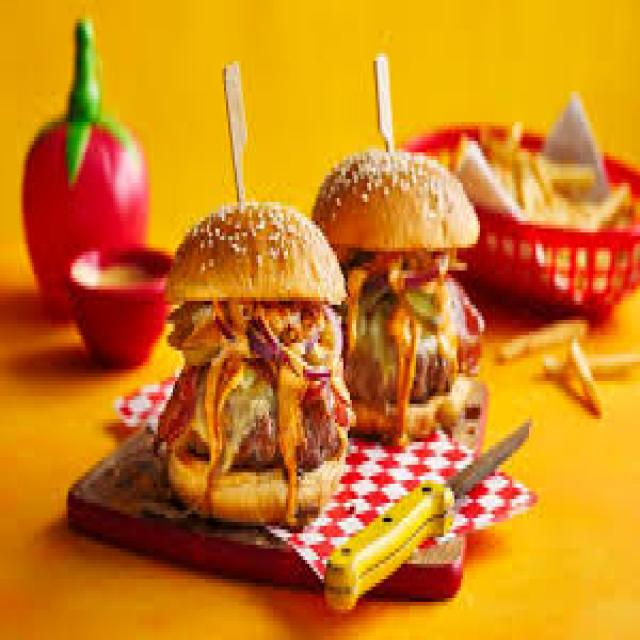Wet Waste: (188, 170, 344, 529), (318, 151, 477, 418)
